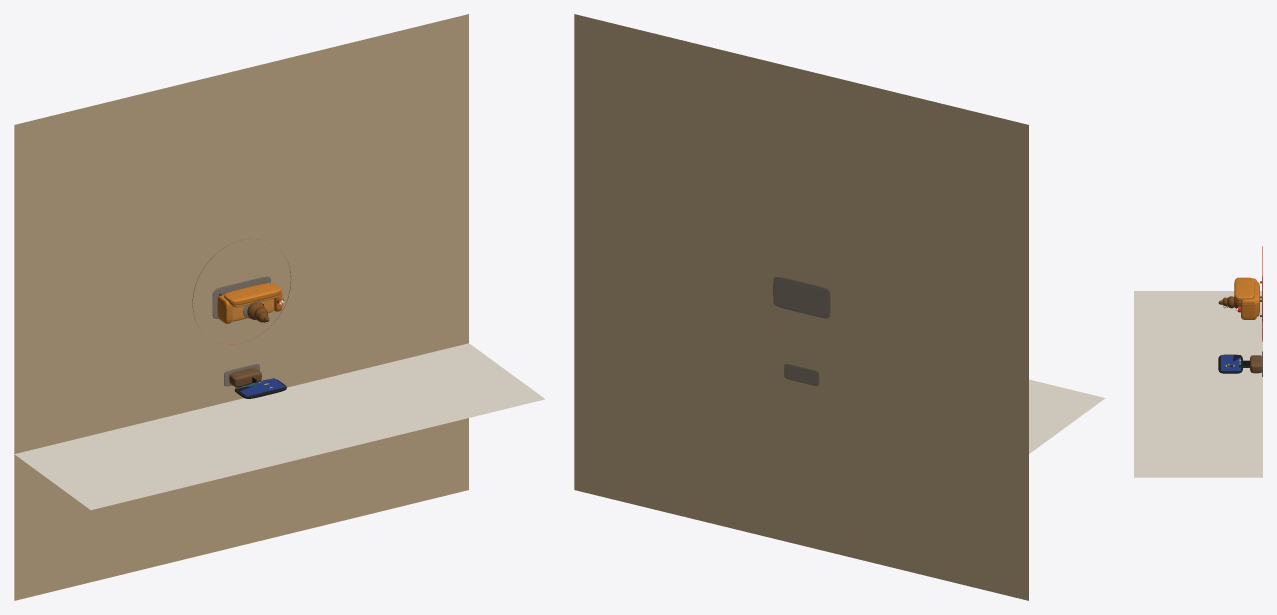
The picture shows the model from 3 angles, left to right: view 1: azimuth 30°, elevation 25°; view 2: azimuth 150°, elevation 25°; view 3: azimuth 270°, elevation 25°; orthographic projection. The views are drawn at different scales.
Parts seen in each view (by area): view 1: floor, wall, backrest; view 2: floor, wall, shadow_couch; view 3: wall, backrest, armrest, film, tv_stand.
Boxes of the visible parts, x1=… form: floor: x1=14, y1=14, x2=468, y2=600; wall: x1=14, y1=343, x2=545, y2=509; backrest: x1=224, y1=283, x2=281, y2=305; floor: x1=574, y1=14, x2=1028, y2=600; wall: x1=1029, y1=379, x2=1105, y2=453; shadow_couch: x1=773, y1=277, x2=830, y2=318; wall: x1=1134, y1=291, x2=1262, y2=477; backrest: x1=1234, y1=277, x2=1254, y2=301; armrest: x1=1240, y1=278, x2=1257, y2=319; film: x1=1221, y1=355, x2=1240, y2=370; tv_stand: x1=1250, y1=355, x2=1261, y2=373.
Bounding box in the file's own units: 24 × 24 × 7.
